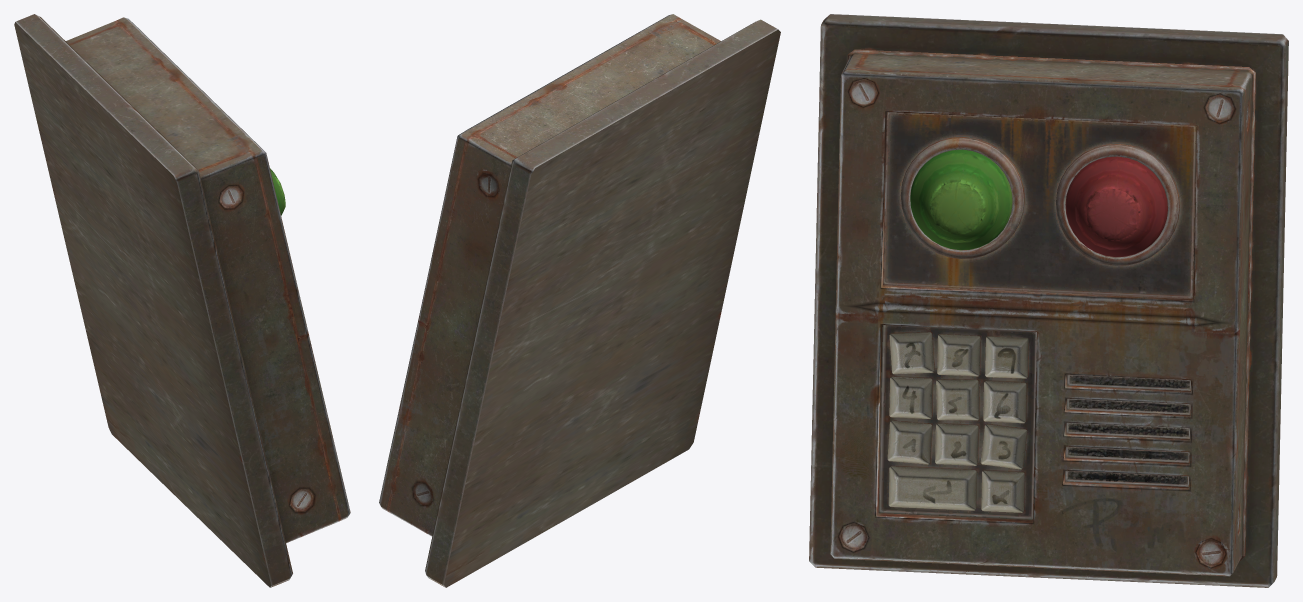
File: CodeLock.fbx
3 views of the same model, side by side, from view 1: azimuth 30°, elevation 25°; view 2: azimuth 150°, elevation 25°; view 3: azimuth 270°, elevation 25° (orthographic). The views are drawn at different scales.
Parts seen in each view (by area): view 1: keypad_LOD0; view 2: keypad_LOD0; view 3: keypad_LOD0.
Part boxes in pixels (bbox=[...]): keypad_LOD0: bbox=[14, 14, 350, 587]; keypad_LOD0: bbox=[379, 14, 780, 587]; keypad_LOD0: bbox=[809, 14, 1288, 587].
Bounding box in the file's own units: 15.82 × 31.11 × 26.9.
Materials: 1 (1 with a texture image).
